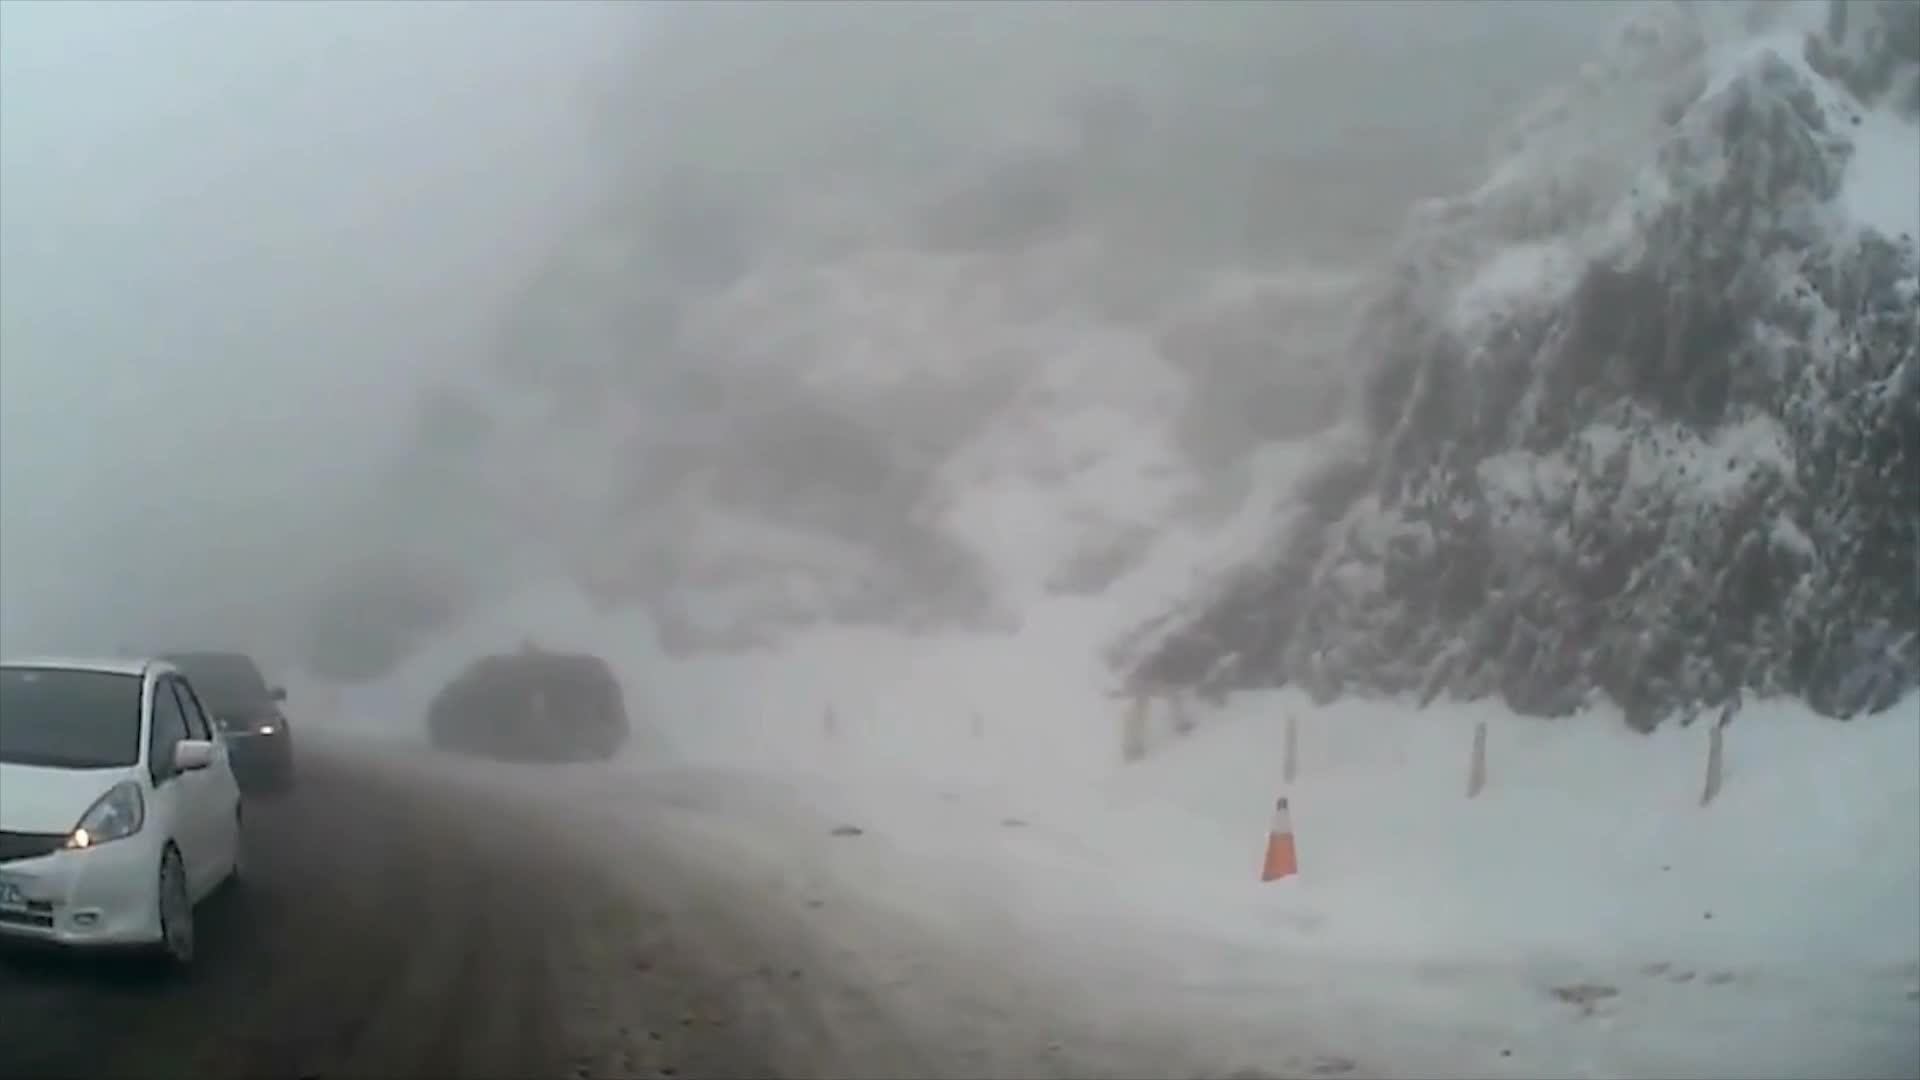vehicle: (0, 655, 253, 977), (121, 645, 293, 804), (429, 651, 629, 764)
